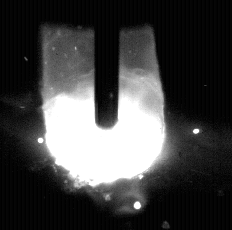arame: (95, 0, 120, 129)
poca: (38, 0, 168, 230)
